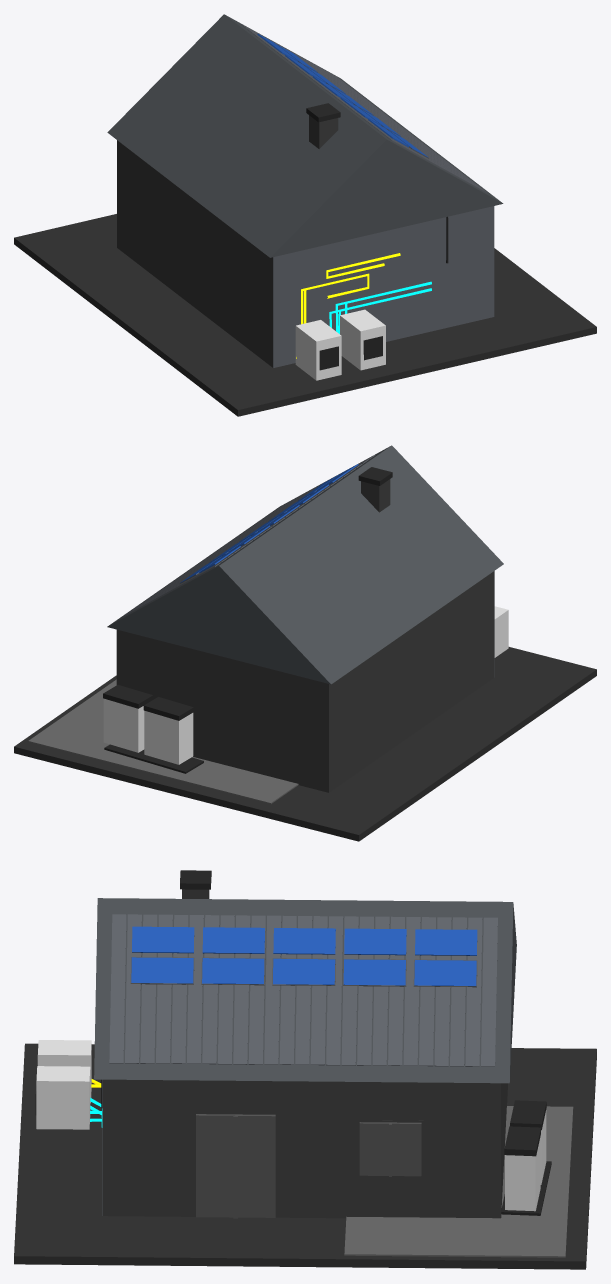
Rendered from House.glb.
3 renders of one model, top to bottom at view 1: azimuth 30°, elevation 25°; view 2: azimuth 150°, elevation 25°; view 3: azimuth 270°, elevation 25°, orthographic. The views are drawn at different scales.
Parts seen in each view (by area): view 1: Toit_Principal, Sol_Noir_Mat, Façade_Technique_Gris, Maison_Base, PAC_2_Corps, PAC_1_Corps, Cheminee; view 2: Toit_Principal, Maison_Base, Sol_Noir_Mat, Dalle_Paves_Avant, Batterie_Module_1, Batterie_Module_2, Batterie_Socle, Batterie_Top_2, Batterie_Top_1, PAC_2_Corps, Cheminee; view 3: Maison_Base, Sol_Noir_Mat, Toit_Principal, Dalle_Paves_Avant, Fenetre_Cadre_1, PAC_1_Corps, Porte_Cadre, Ligne_Tuile_-12, Ligne_Tuile_12, Batterie_Module_2, Ligne_Tuile_-7, Ligne_Tuile_7 (+37 smaller).
Boxes of the visible parts, bbox=[...] form: Toit_Principal: bbox=[107, 14, 503, 257]; Sol_Noir_Mat: bbox=[14, 214, 596, 416]; Façade_Technique_Gris: bbox=[273, 206, 494, 367]; Maison_Base: bbox=[117, 140, 272, 367]; PAC_2_Corps: bbox=[295, 320, 341, 380]; PAC_1_Corps: bbox=[340, 309, 385, 370]; Cheminee: bbox=[309, 115, 338, 148]; Toit_Principal: bbox=[107, 445, 503, 684]; Maison_Base: bbox=[116, 571, 494, 792]; Sol_Noir_Mat: bbox=[14, 647, 596, 841]; Dalle_Paves_Avant: bbox=[28, 679, 298, 804]; Batterie_Module_1: bbox=[144, 710, 193, 764]; Batterie_Module_2: bbox=[103, 698, 144, 752]; Batterie_Socle: bbox=[104, 744, 203, 773]; Batterie_Top_2: bbox=[103, 685, 153, 708]; Batterie_Top_1: bbox=[143, 697, 193, 720]; PAC_2_Corps: bbox=[494, 606, 508, 657]; Cheminee: bbox=[361, 479, 390, 512]; Maison_Base: bbox=[103, 1079, 507, 1218]; Sol_Noir_Mat: bbox=[14, 1043, 596, 1269]; Toit_Principal: bbox=[94, 898, 516, 1083]; Dalle_Paves_Avant: bbox=[344, 1106, 573, 1257]; Fenetre_Cadre_1: bbox=[196, 1114, 275, 1217]; PAC_1_Corps: bbox=[36, 1066, 90, 1129]; Porte_Cadre: bbox=[359, 1122, 421, 1176]; Ligne_Tuile_-12: bbox=[481, 917, 497, 1066]; Ligne_Tuile_12: bbox=[109, 914, 126, 1063]; Batterie_Module_2: bbox=[505, 1136, 540, 1211]; Ligne_Tuile_-7: bbox=[403, 917, 420, 1065]; Ligne_Tuile_7: bbox=[187, 915, 203, 1063].
Bounding box in the file's own units: 11.65 × 6.68 × 13.18.
